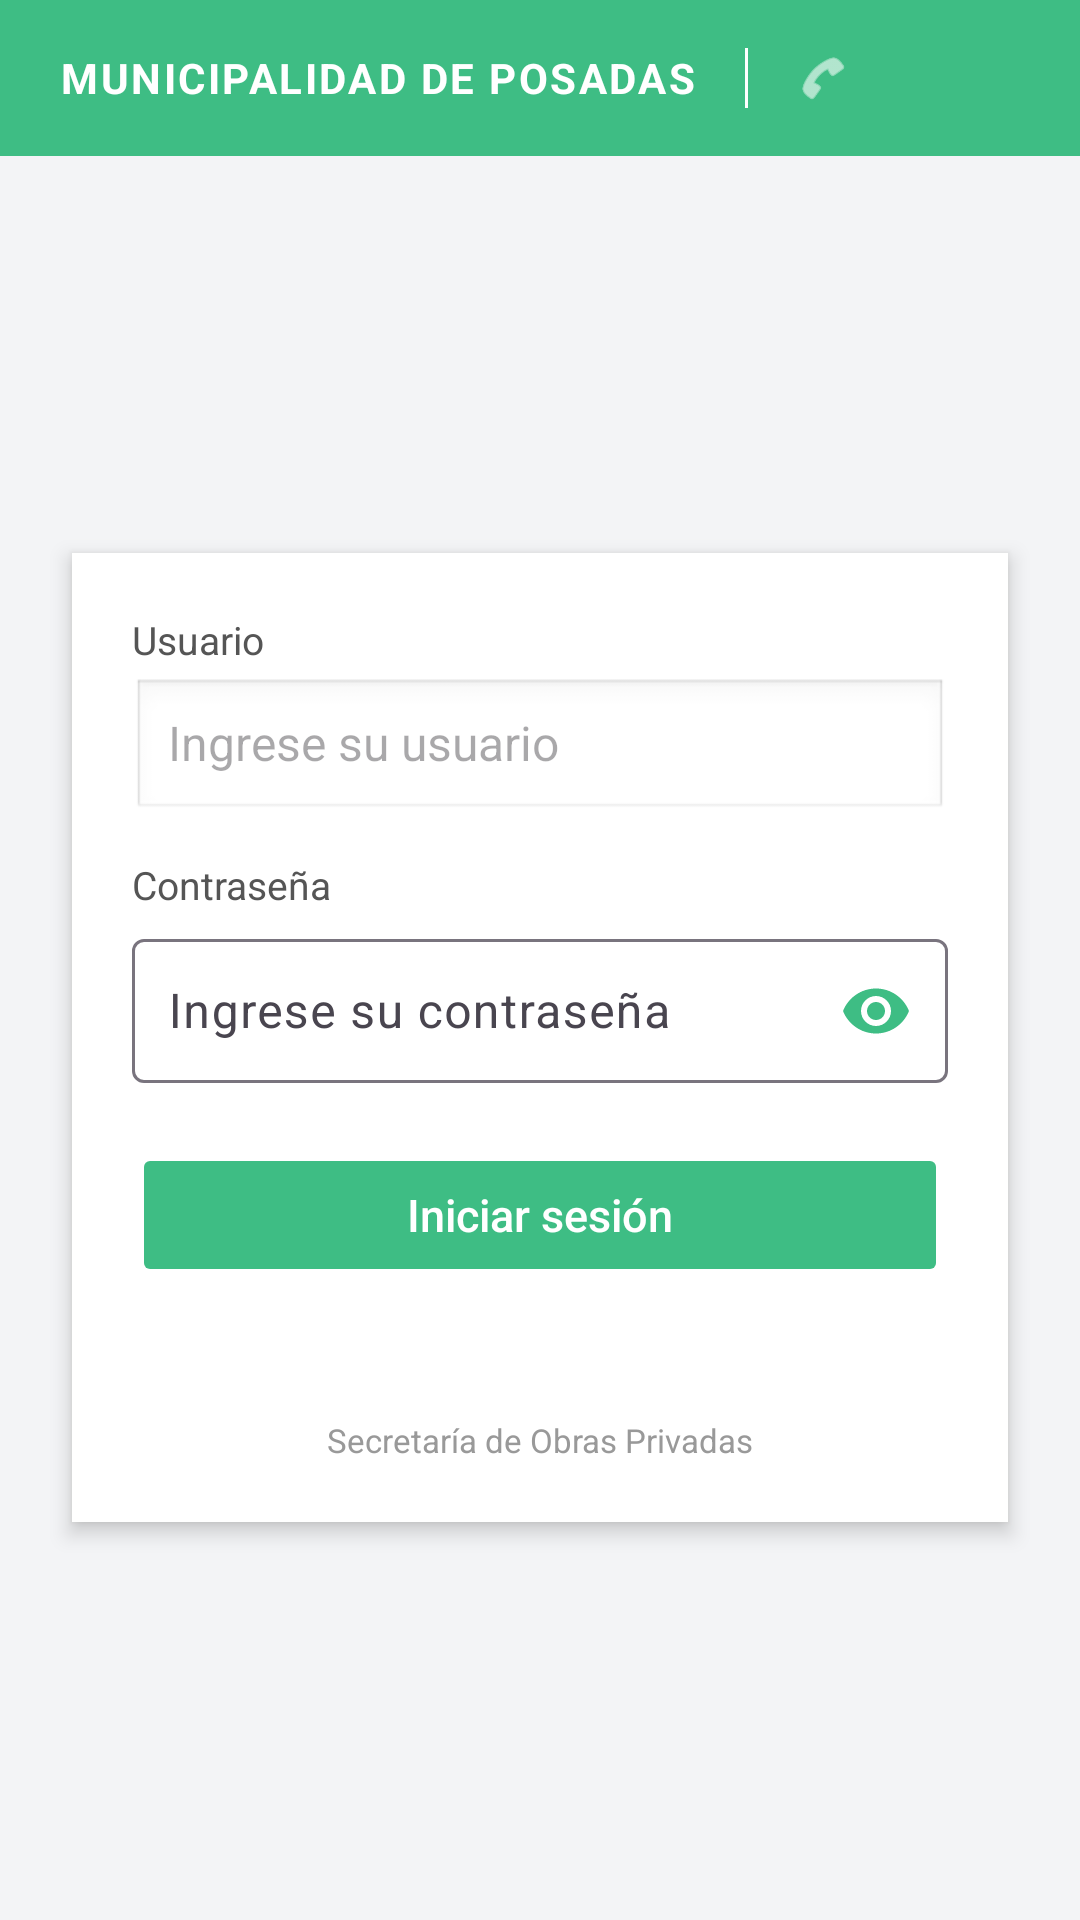

Icons on this 1080 × 1920 Android screen, each with its box as (x1, y1, x2, y2):
call: (802, 57, 844, 99)
